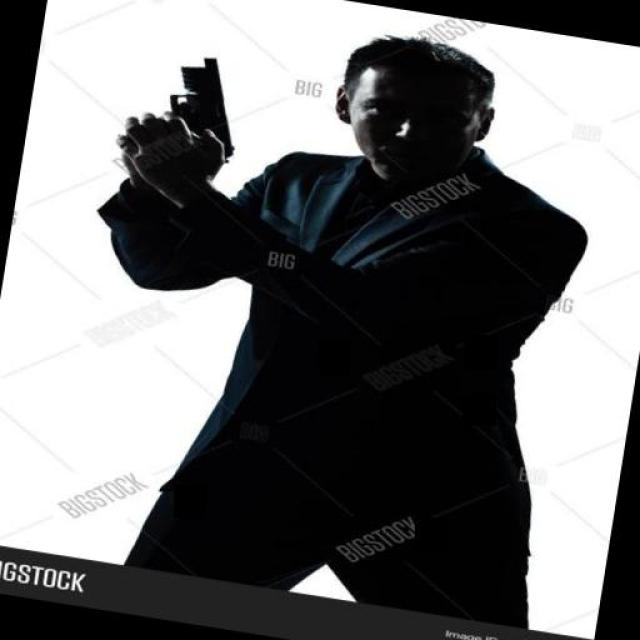gun: (115, 42, 256, 162)
